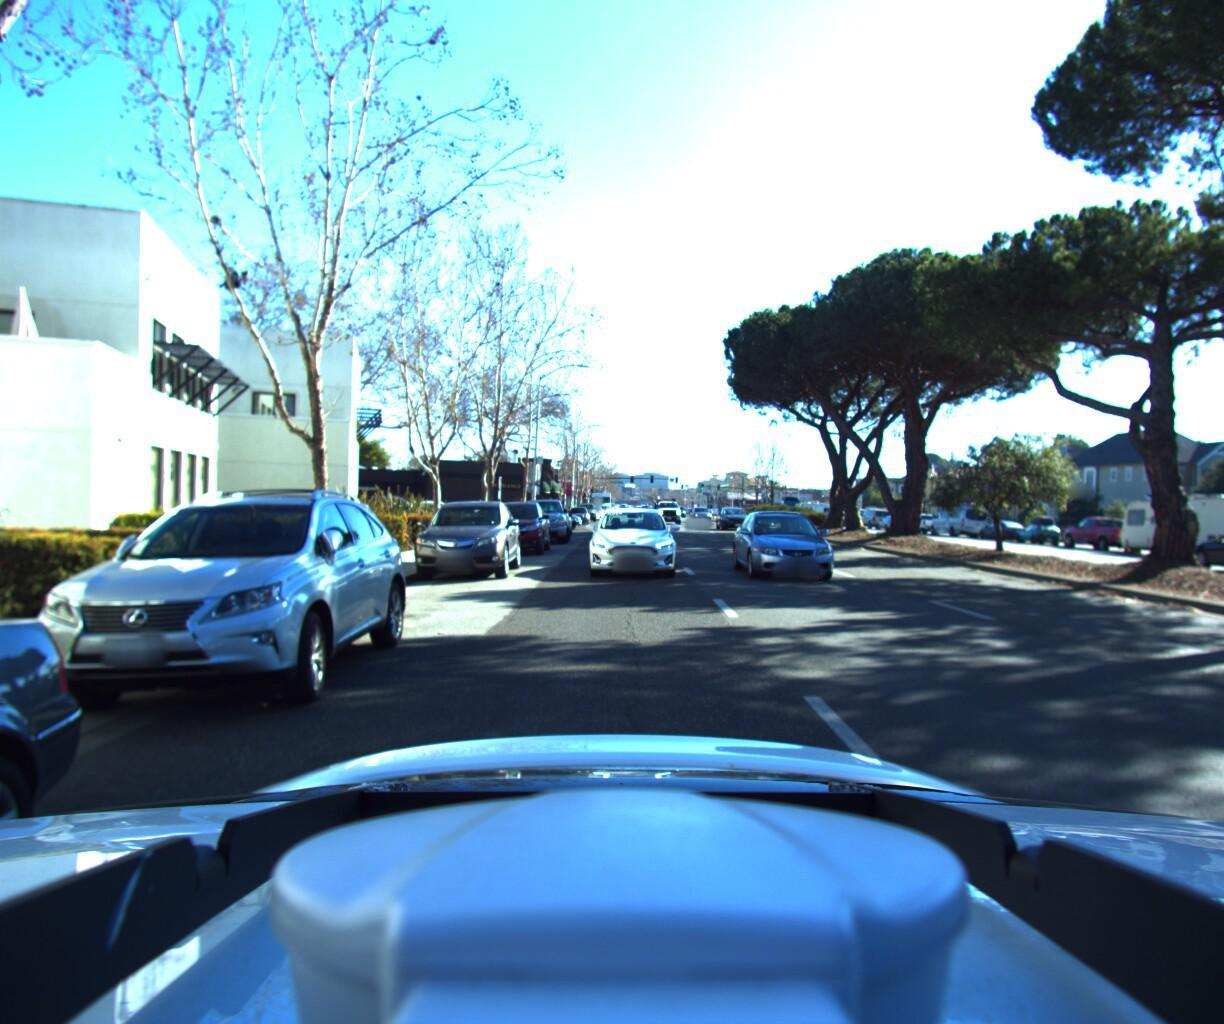car: (404, 488, 528, 585), (731, 505, 856, 590), (579, 503, 675, 584), (477, 493, 556, 556), (1153, 514, 1224, 575), (1057, 510, 1158, 552), (508, 492, 574, 544), (926, 495, 994, 536), (1009, 511, 1072, 545), (974, 514, 1034, 540), (900, 507, 947, 532), (716, 510, 754, 536), (652, 493, 681, 523), (858, 503, 893, 526), (567, 501, 591, 523), (688, 506, 713, 523)
other_vehicle: (1114, 479, 1224, 566)
